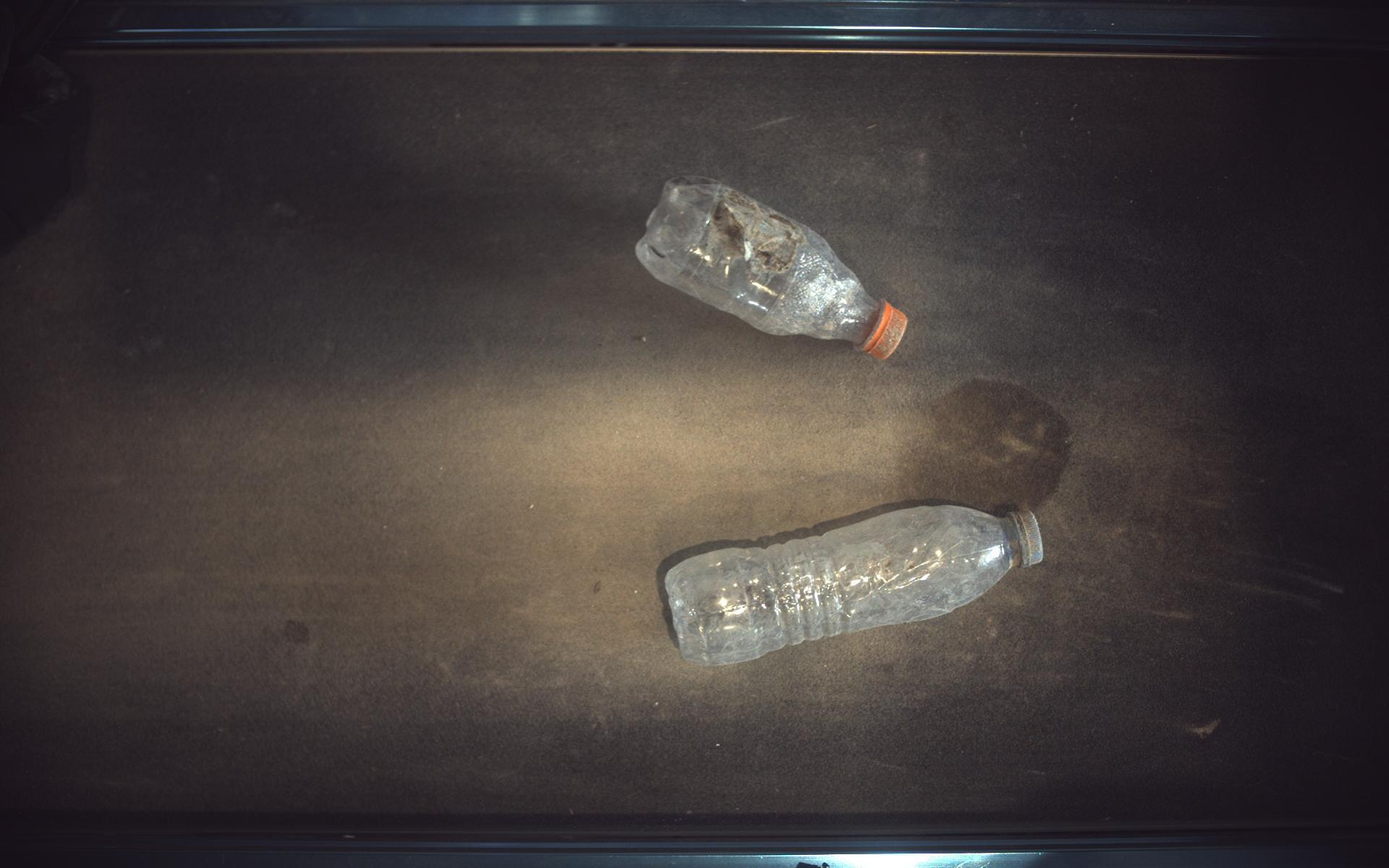general_w: (666, 506, 1045, 666), (637, 176, 909, 359)
